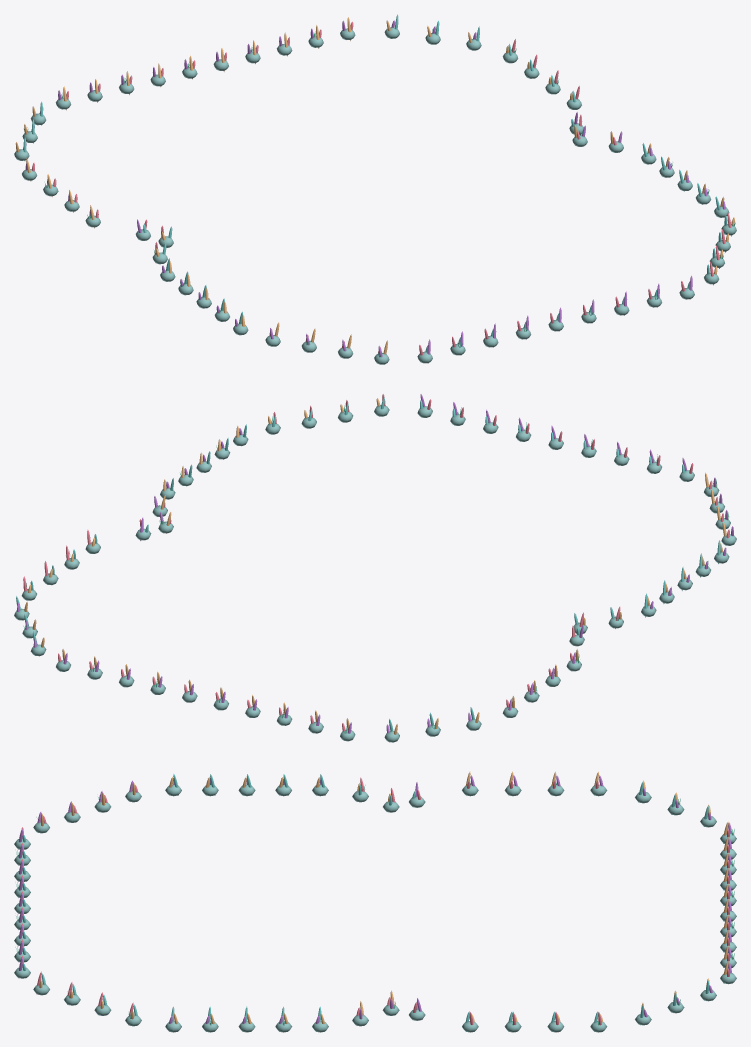
Rendered from reef-30-GSzUqxew.glb.
3 views of the same model, one above another, from view 1: azimuth 30°, elevation 25°; view 2: azimuth 150°, elevation 25°; view 3: azimuth 270°, elevation 25° (orthographic).
Parts seen in each view (by area): view 1: ReefRock, Coral2, Coral1, Coral3, Coral0; view 2: ReefRock, Coral1, Coral2, Coral3, Coral0; view 3: ReefRock, Coral2, Coral1, Coral3, Coral0.
Part boxes in pixels (x1,y1,x2,y2): ReefRock: (14,27,736,364); Coral2: (15,17,734,354); Coral1: (23,20,725,357); Coral3: (23,14,727,352); Coral0: (32,21,731,355); ReefRock: (14,405,736,742); Coral1: (17,394,733,733); Coral2: (24,398,726,734); Coral3: (16,397,720,731); Coral0: (23,394,729,730); ReefRock: (14,784,736,1032); Coral2: (39,771,728,1024); Coral1: (18,775,731,1023); Coral3: (22,774,709,1025); Coral0: (21,777,729,1032).
Bounding box in the file's own units: 47 × 2.06 × 59.1.
